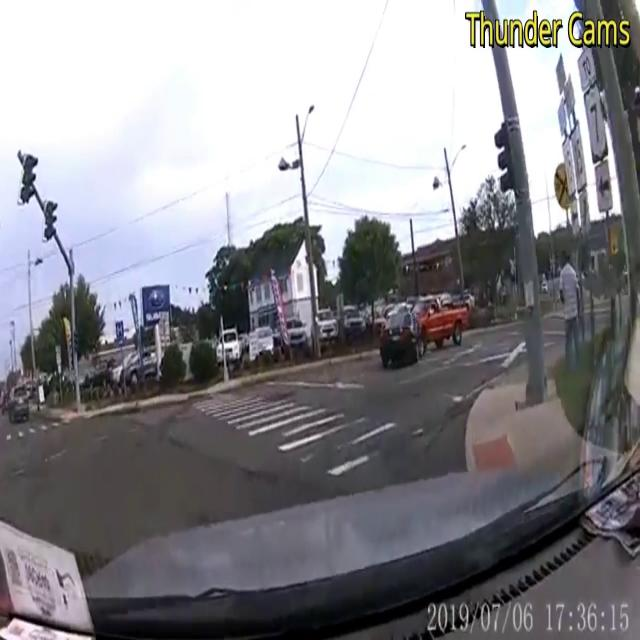accident: (382, 307, 467, 375)
